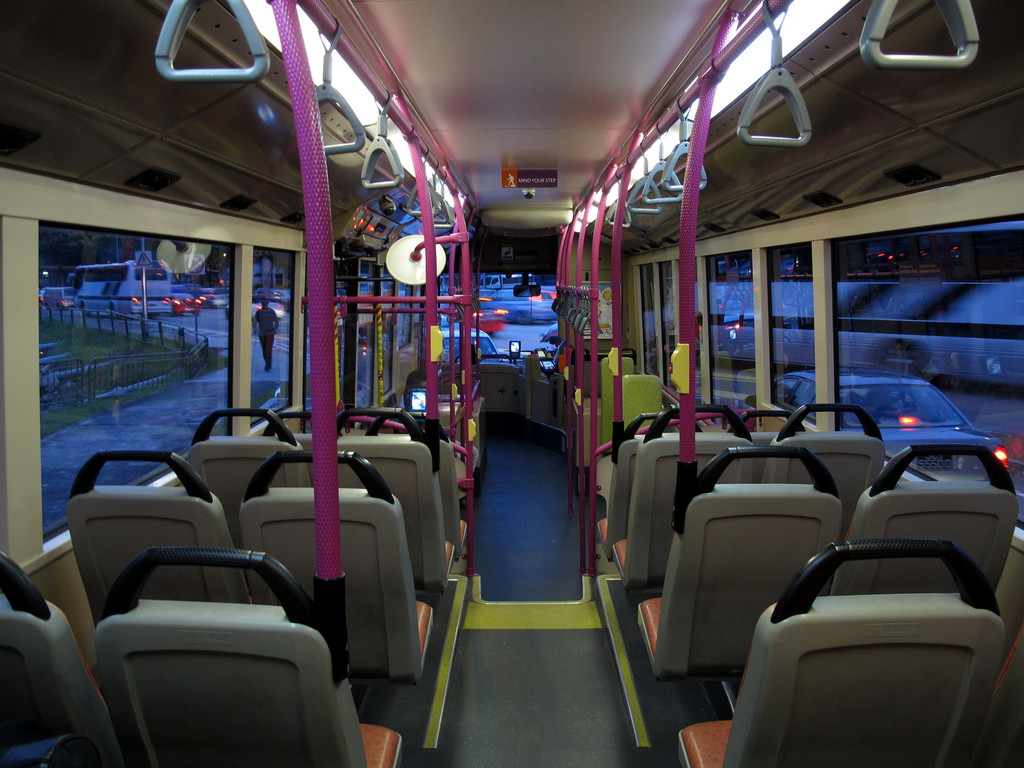Bus: (0, 1, 1023, 767), (716, 219, 1021, 380), (71, 252, 173, 317)
